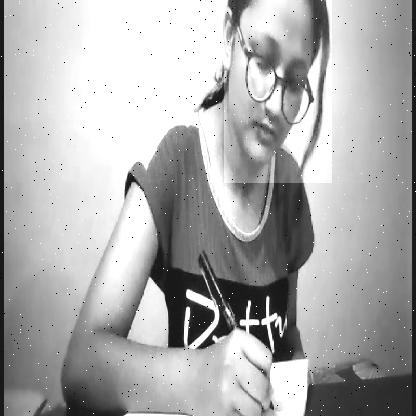Distracted: (224, 0, 332, 183)
